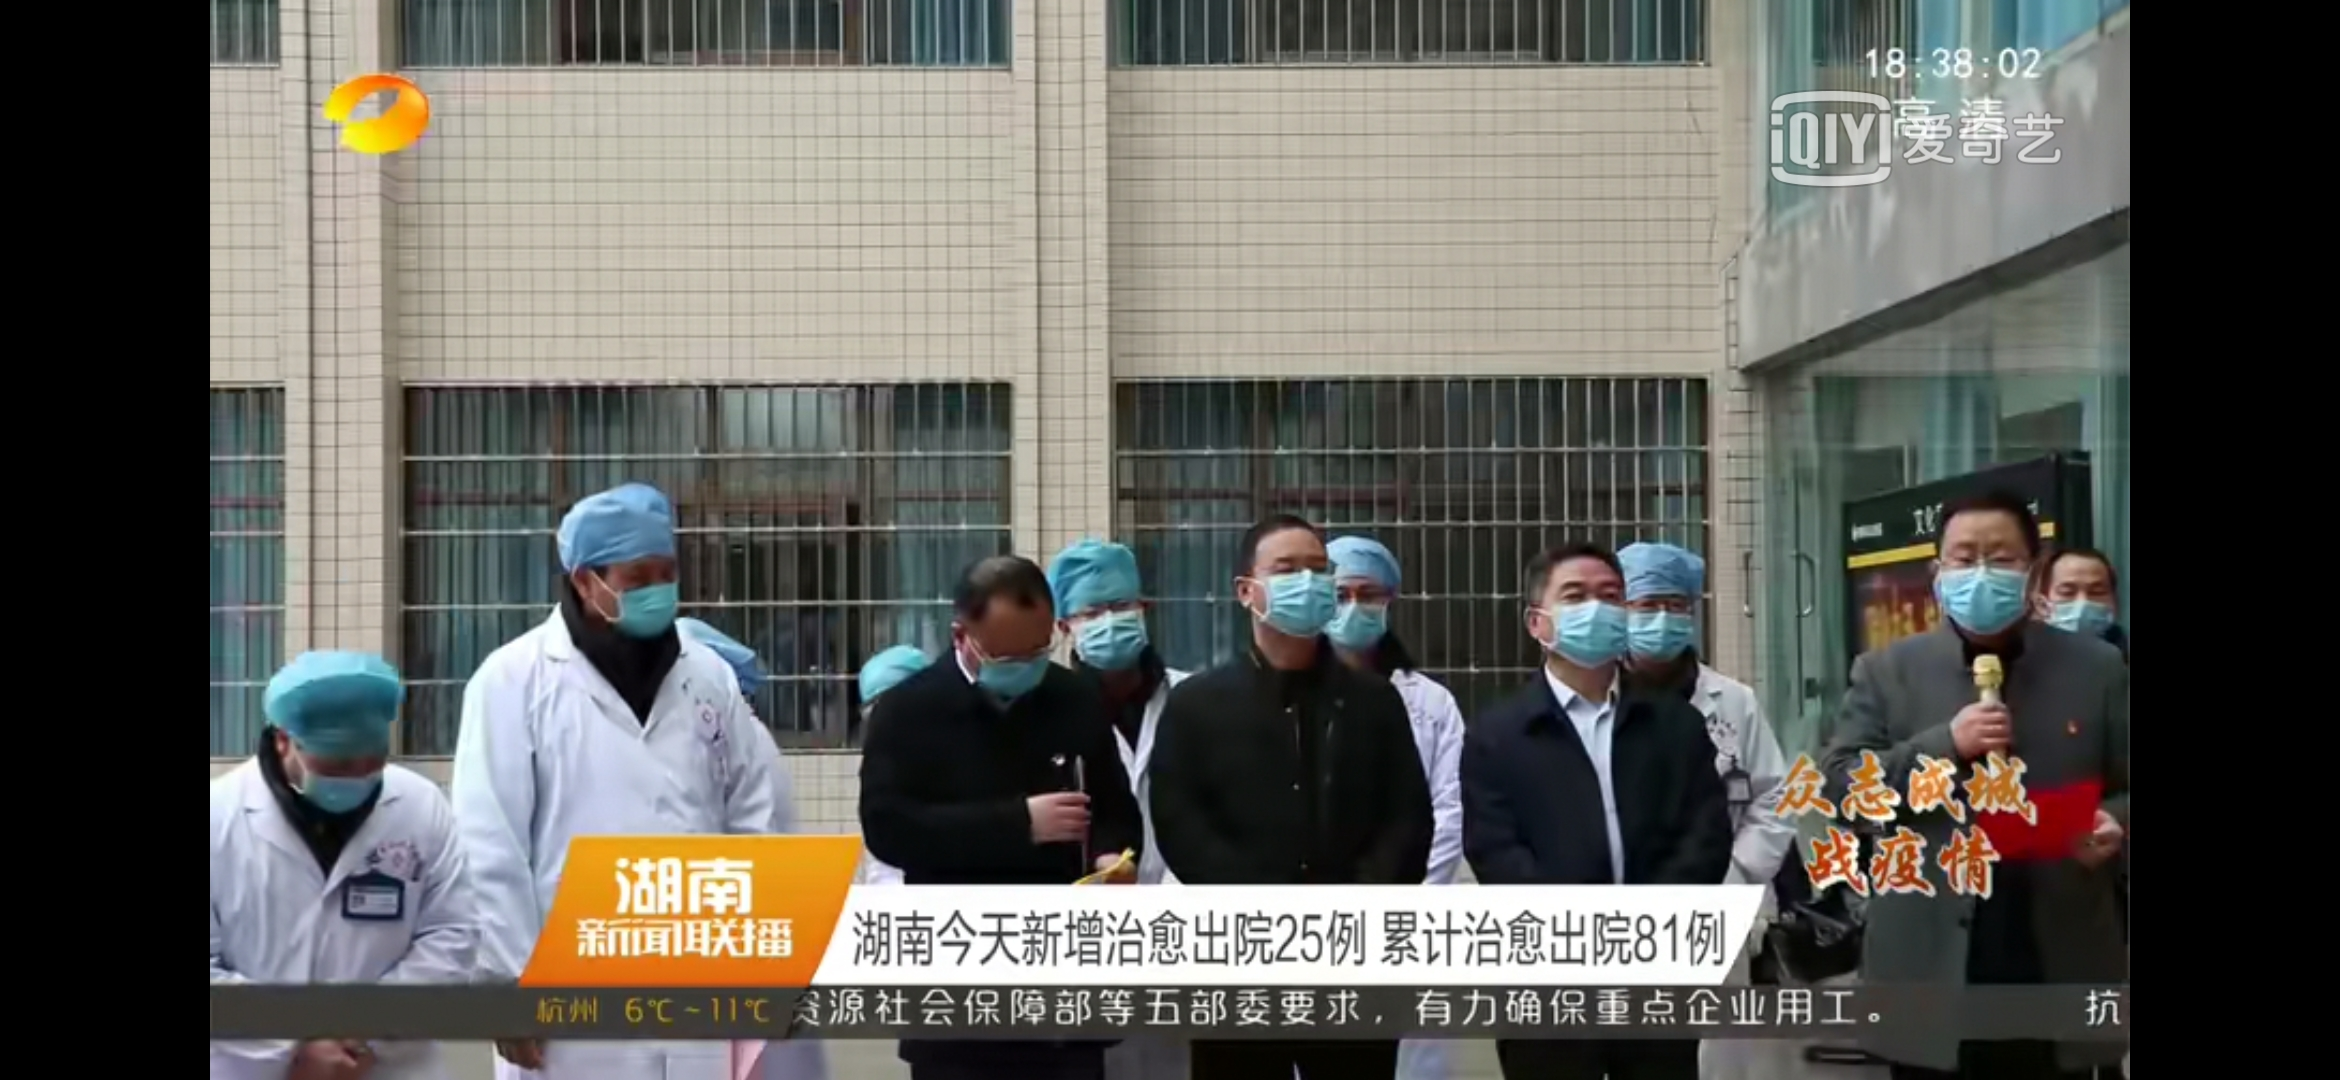correctlyWear: (263, 720, 391, 814), (1933, 528, 2042, 635), (570, 537, 682, 637), (1524, 568, 1631, 671), (1234, 546, 1336, 641), (952, 612, 1057, 698), (1063, 592, 1158, 670), (1619, 580, 1700, 659), (1327, 561, 1400, 647), (2045, 570, 2127, 638)
